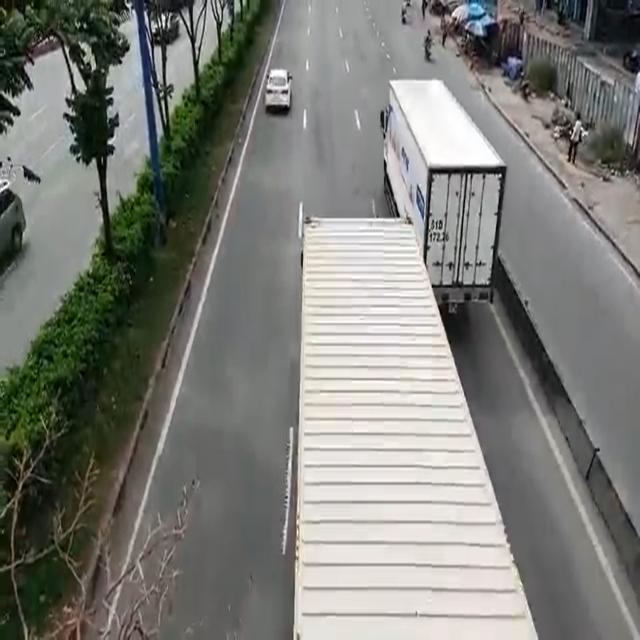car: (269, 62, 287, 115)
truck: (297, 212, 507, 640), (386, 74, 503, 319)
